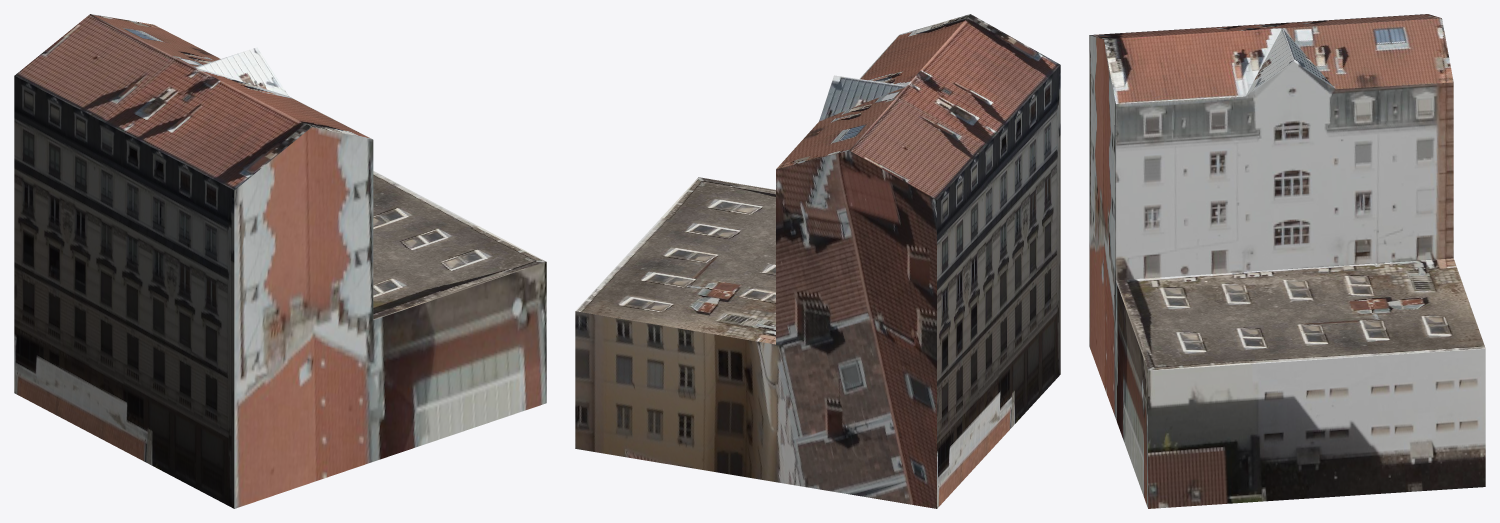
The picture shows the model from 3 angles, left to right: view 1: azimuth 30°, elevation 25°; view 2: azimuth 150°, elevation 25°; view 3: azimuth 270°, elevation 25°; orthographic projection. The views are drawn at different scales.
Parts seen in each view (by area): view 1: Z_UP; view 2: Z_UP; view 3: Z_UP.
Boxes of the visible parts, box(x1,y1,x2,y2) form: Z_UP: box(14, 14, 546, 508); Z_UP: box(575, 14, 1060, 508); Z_UP: box(1089, 14, 1485, 508).
Size of the model in its own units: 29.72 by 25.98 by 26.91.
Materials: 2 (1 with a texture image).
